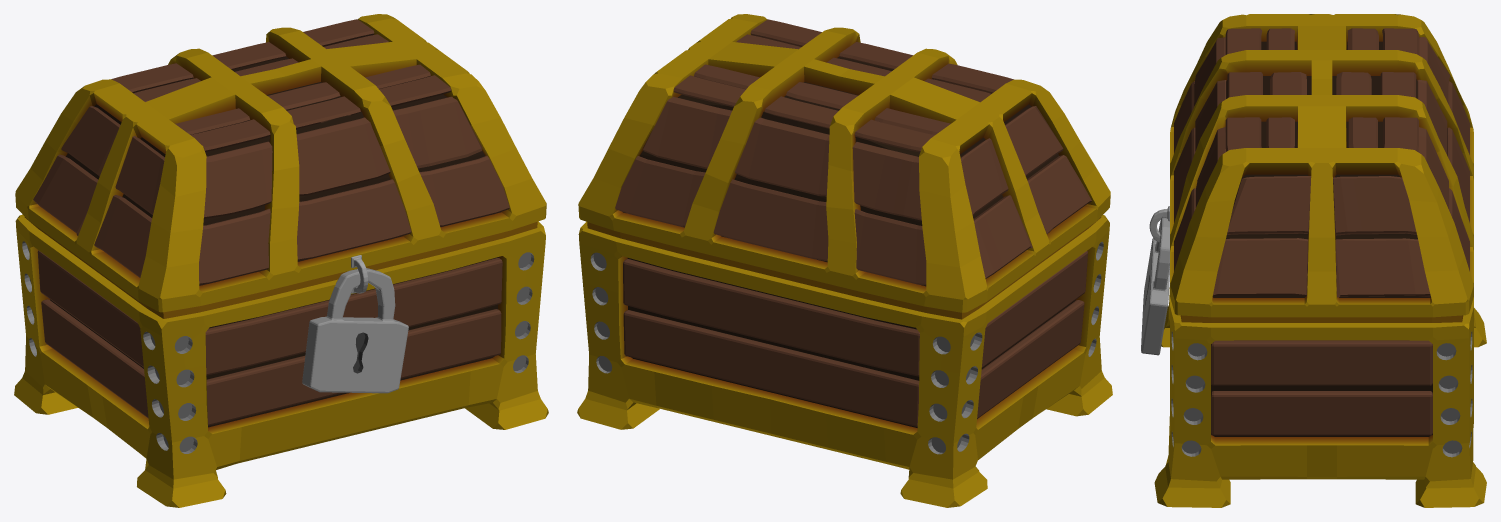
Rendered from Schatztruhe.fbx.
3 views of the same model, side by side, from view 1: azimuth 30°, elevation 25°; view 2: azimuth 150°, elevation 25°; view 3: azimuth 270°, elevation 25° (orthographic).
Parts seen in each view (by area): view 1: Schatztruhe_001; view 2: Schatztruhe_001; view 3: Schatztruhe_001.
Boxes of the visible parts, left/top/right/bottom form: Schatztruhe_001: left=14, top=14, right=548, bottom=507; Schatztruhe_001: left=577, top=14, right=1112, bottom=507; Schatztruhe_001: left=1141, top=14, right=1486, bottom=507.
Size of the model in its own units: 476 by 382 by 357.
